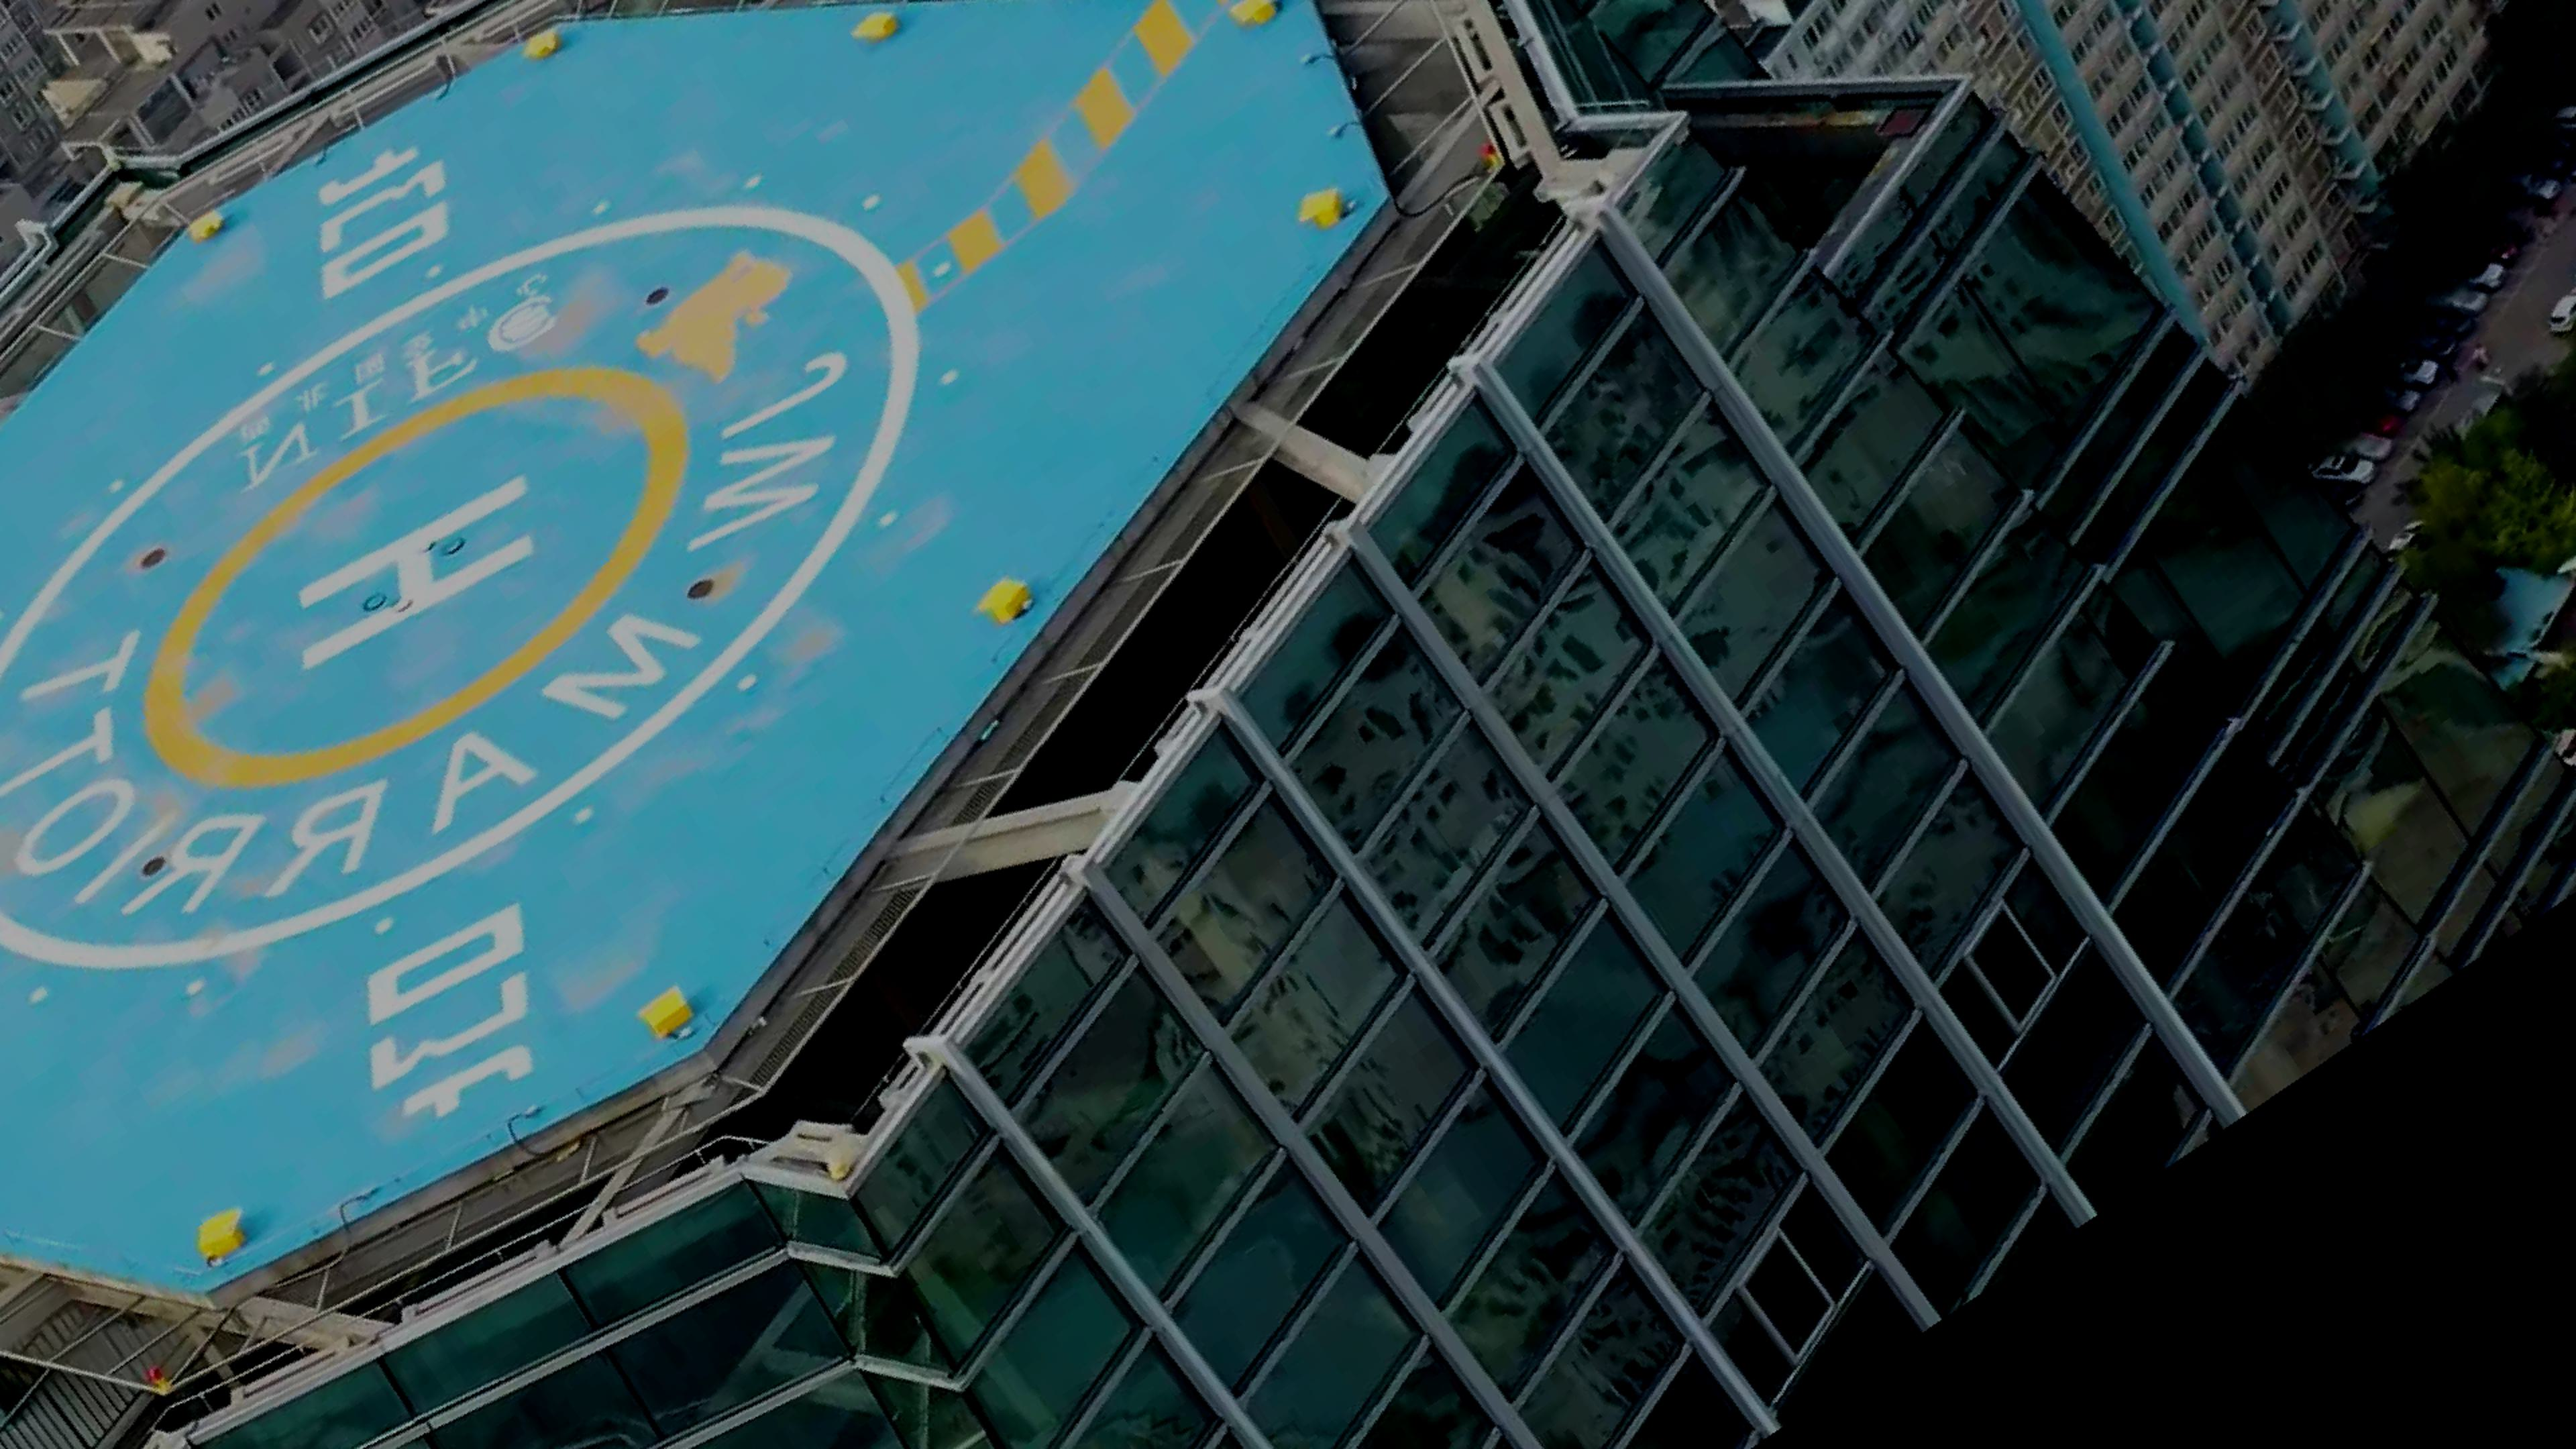Apron: (96, 361, 727, 796)
